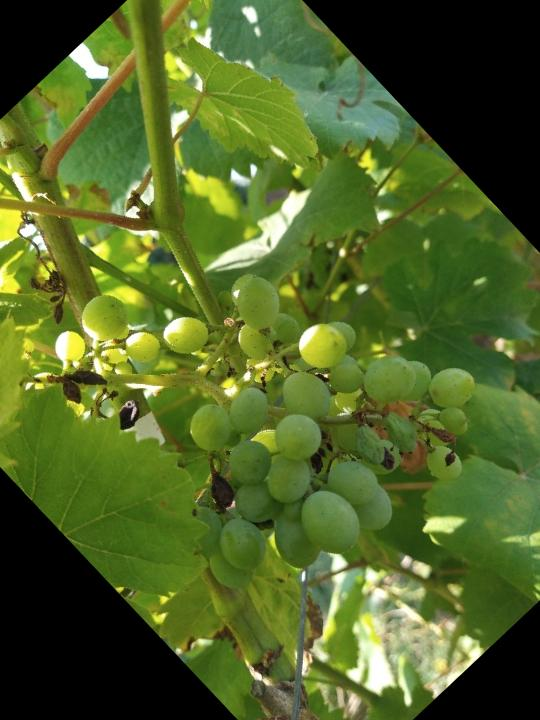grape: (10, 141, 522, 655)
